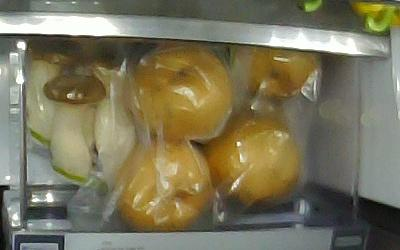pear_vinyl: (128, 42, 230, 139), (115, 140, 212, 230), (206, 112, 299, 203), (235, 44, 318, 102)
